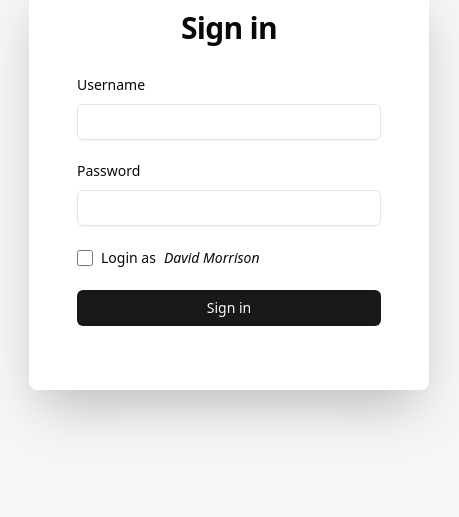
Test case: LoginPage › should show validation errors on empty submit
This screenshot has width=459, height=517.
Click the button "Sign in": (229, 308) [77, 290, 381, 326]
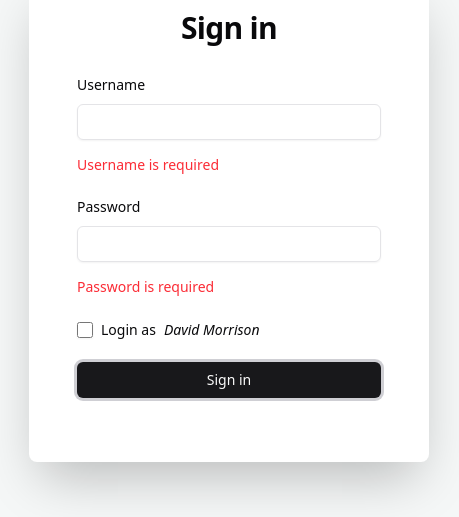
Expected: the text "Username is required" is shown, [77, 155, 219, 174]
Expected: the text "Password is required" is shown, [77, 277, 214, 296]
